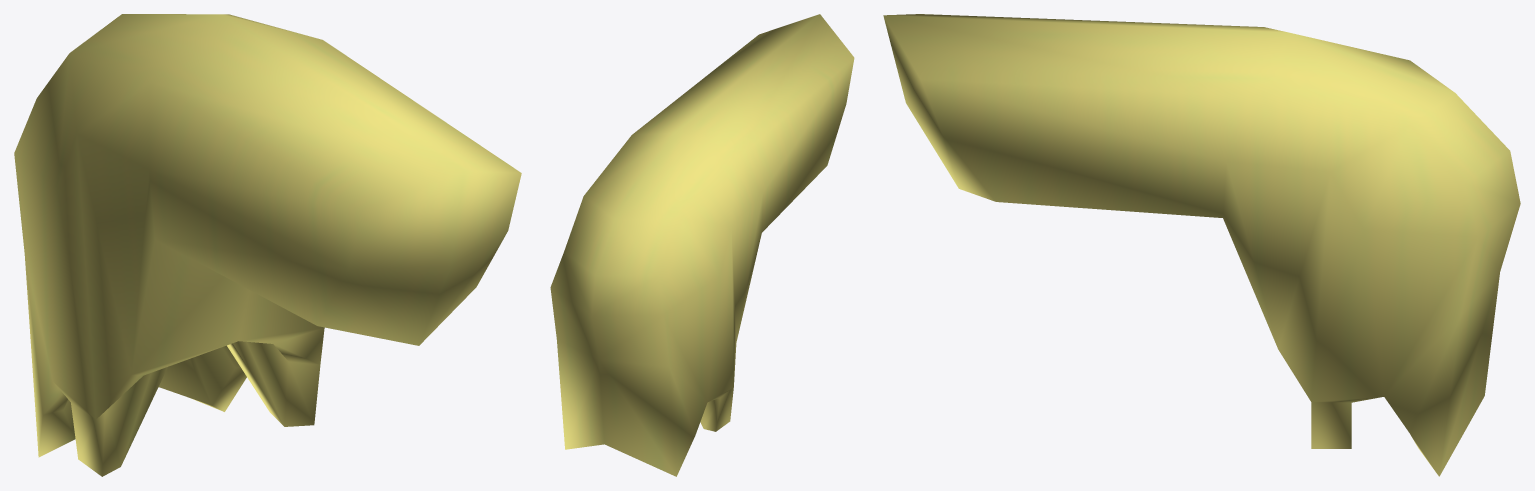
The model's file is pompadorable.glb.
3 views of the same model, side by side, from view 1: azimuth 30°, elevation 25°; view 2: azimuth 150°, elevation 25°; view 3: azimuth 270°, elevation 25° (orthographic). The views are drawn at different scales.
Visible parts, largest first — view 1: Pompadorable; view 2: Pompadorable; view 3: Pompadorable.
Boxes of the visible parts, x1,y1,x2,y2 form: Pompadorable: (14, 14, 521, 476); Pompadorable: (550, 14, 854, 476); Pompadorable: (883, 14, 1520, 476).
Bounding box in the file's own units: 0.2019 × 0.4079 × 0.5561.
Materials: 1 (1 with a texture image).
